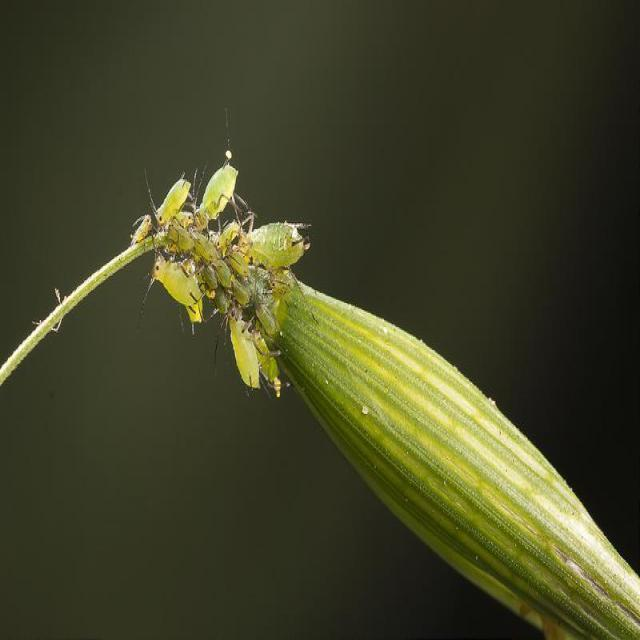aphid: (136, 169, 303, 345), (233, 206, 312, 283), (227, 306, 285, 393), (135, 215, 156, 245)
